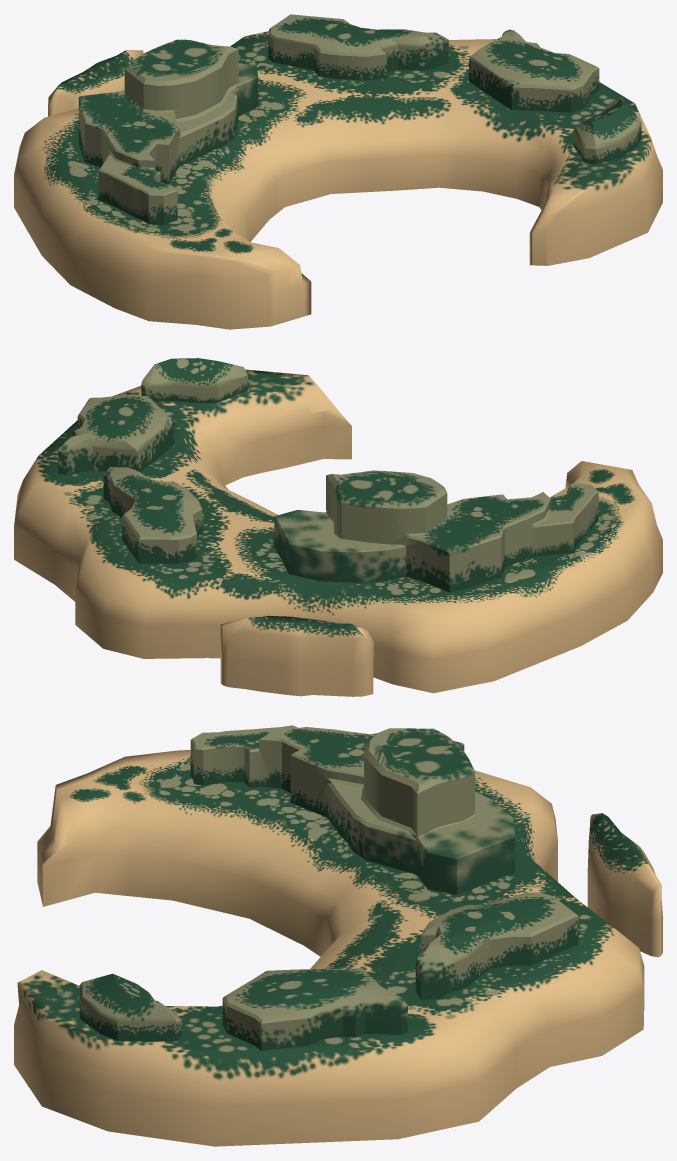
Rendered from Ile Central Mid .fbx.
3 renders of one model, top to bottom at view 1: azimuth 30°, elevation 25°; view 2: azimuth 150°, elevation 25°; view 3: azimuth 270°, elevation 25°, orthographic. The views are drawn at different scales.
Parts seen in each view (by area): view 1: Ile_Centrale_Mid; view 2: Ile_Centrale_Mid; view 3: Ile_Centrale_Mid.
Part boxes in pixels (box(x1,y1,x2,y2)): Ile_Centrale_Mid: box(14, 14, 662, 329); Ile_Centrale_Mid: box(14, 358, 662, 696); Ile_Centrale_Mid: box(14, 725, 662, 1146).
Size of the model in its own units: 227 by 53.27 by 189.
Materials: 1 (1 with a texture image).
